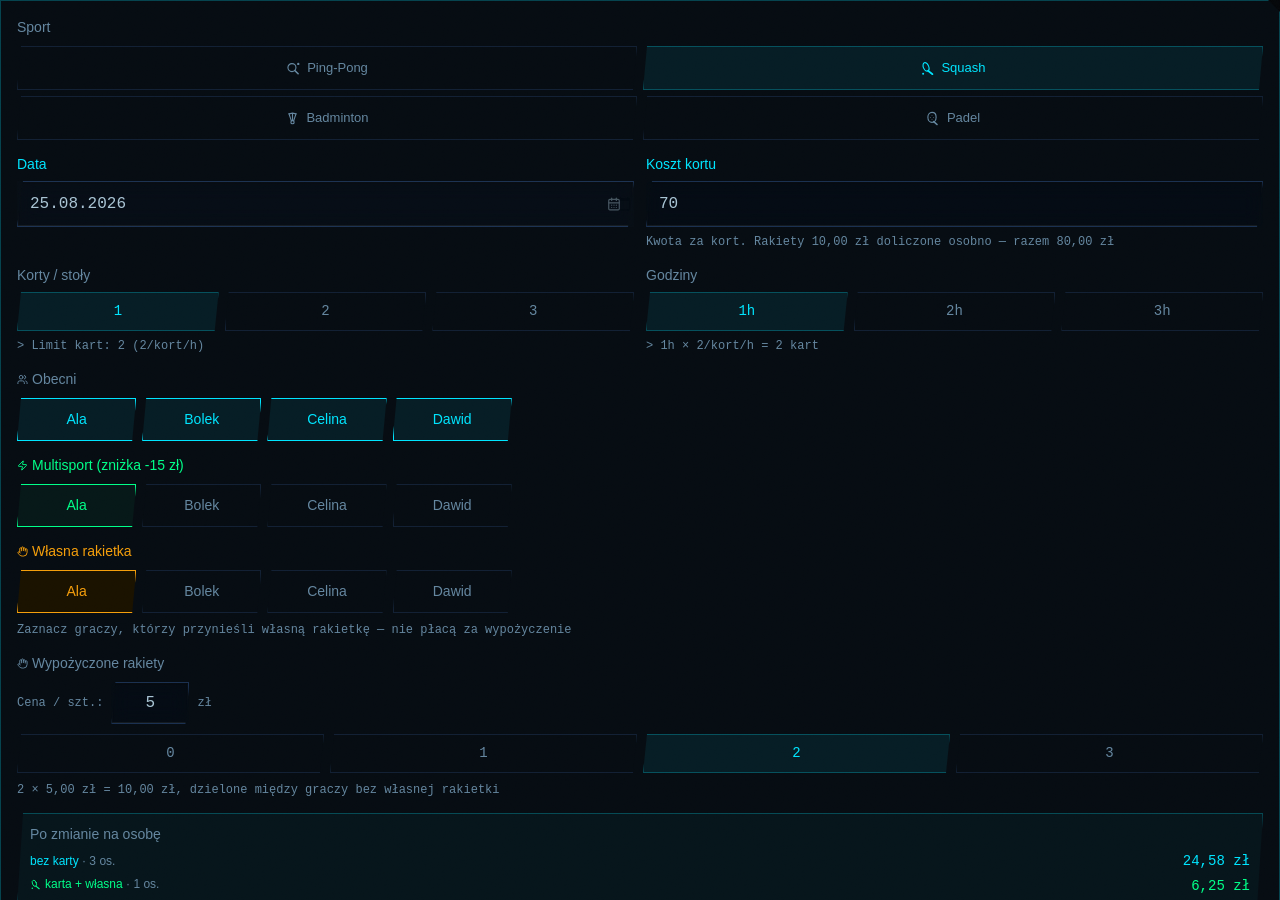
EditSessionForm — pełna edycja › pozwala zmienić liczbę wypożyczonych rakiet
Expected: the text "Wypożyczone rakiety" is shown, [17,655,164,671]
Expected: the number field labelled "Cena / szt.:" holds "5", [111,682,189,724]
Click the button named "Liczba wypożyczonych rakiet: 3" at [1110, 754], box [956,734,1263,773]
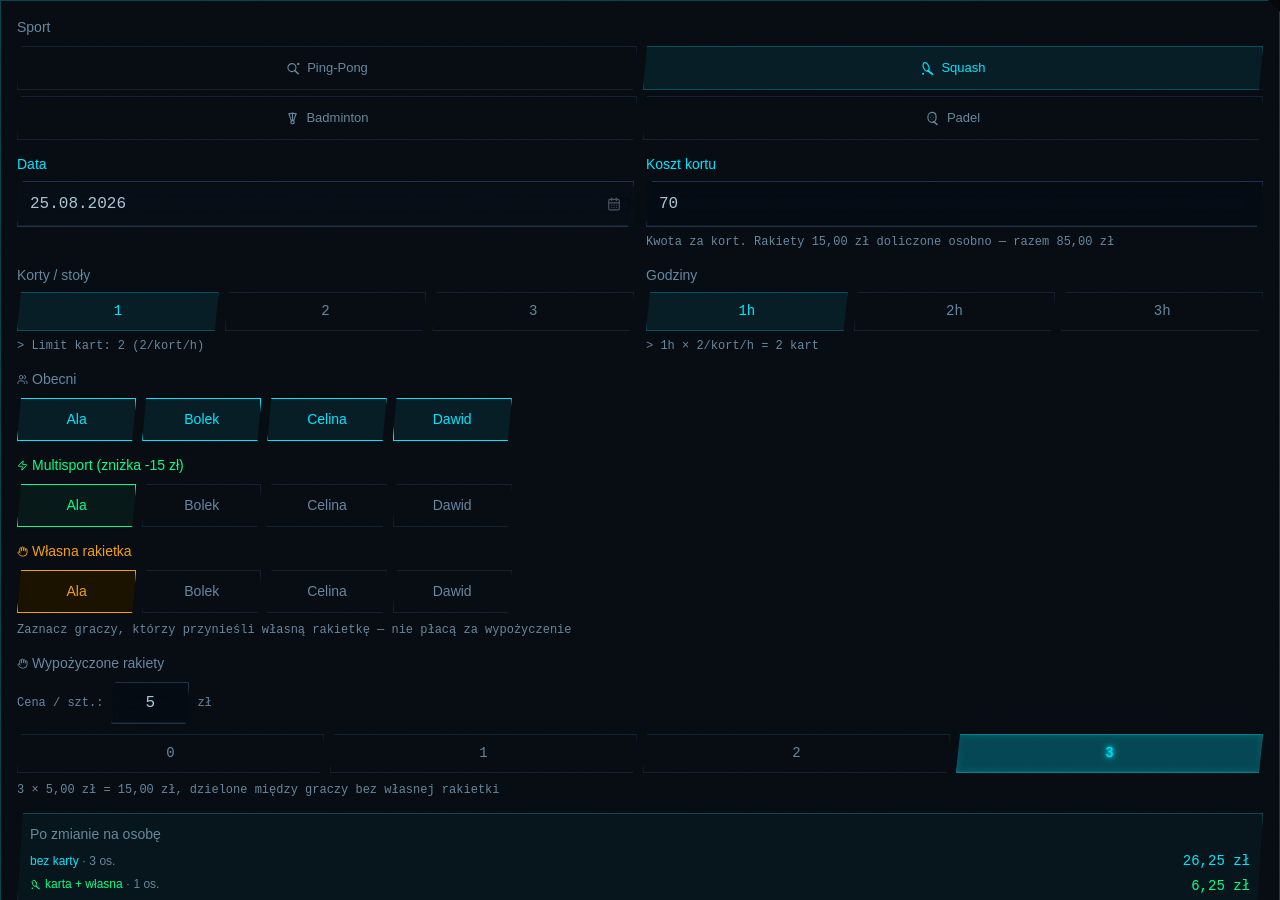
Expected: the text "3 × 5,00 zł = 15,00 zł" is shown, [17,783,500,797]
